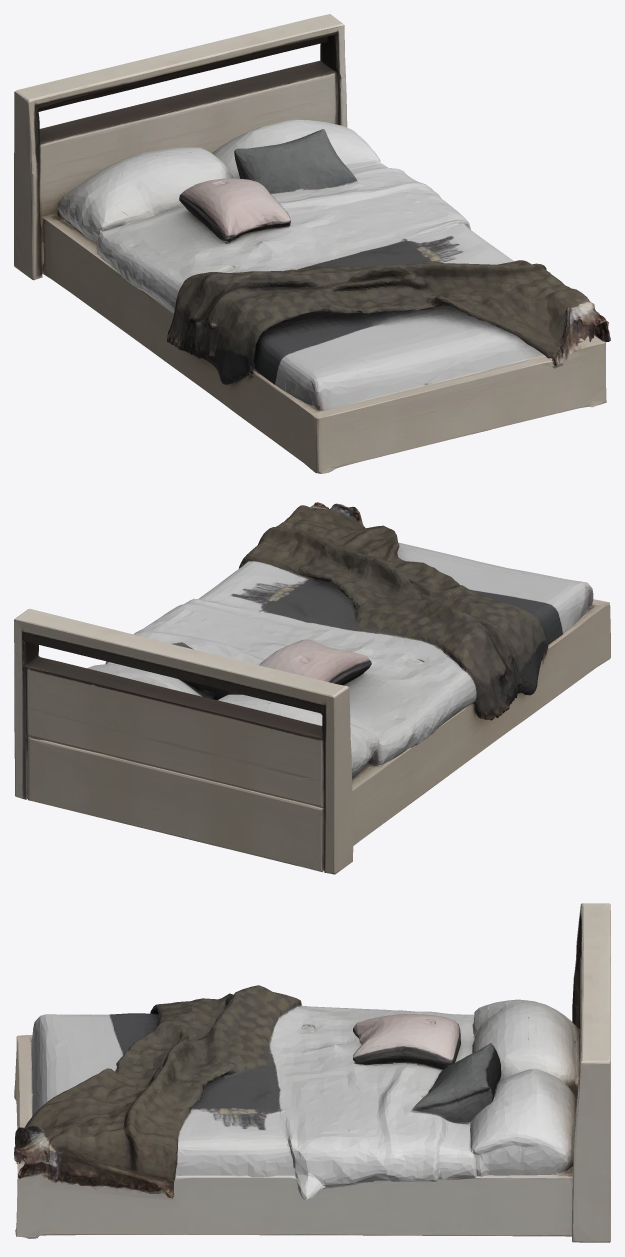
3 views of the same model, one above another, from view 1: azimuth 30°, elevation 25°; view 2: azimuth 150°, elevation 25°; view 3: azimuth 270°, elevation 25° (orthographic). The views are drawn at different scales.
Visible parts, largest first — view 1: world; view 2: world; view 3: world.
Boxes of the visible parts, x1,y1,x2,y2 form: world: [14, 14, 610, 473]; world: [14, 502, 610, 874]; world: [14, 903, 610, 1242].
Size of the model in its own units: 0.663 by 0.3392 by 1.
1 material, 1 textured.
